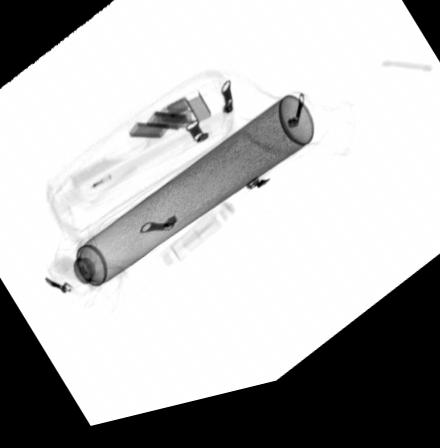Sprayer: (45, 106, 315, 311)
